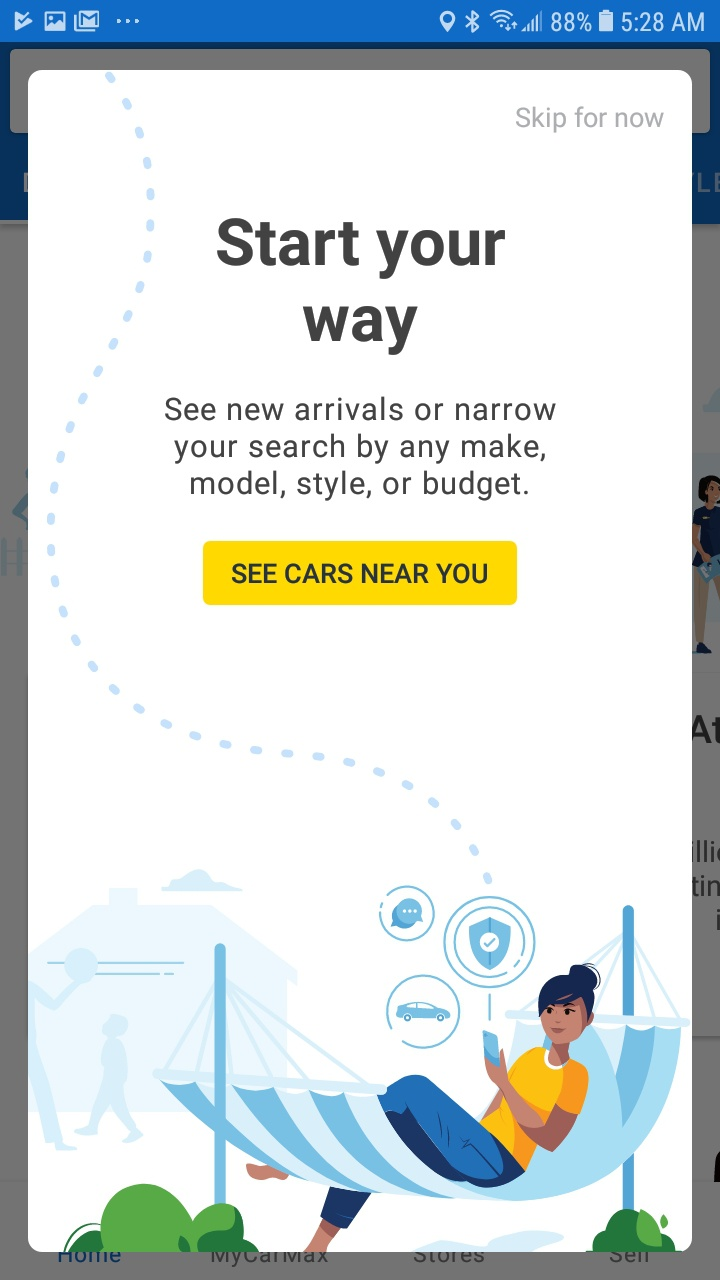BackgroundImage: (28, 70, 693, 1252)
Text: (164, 396, 557, 502), (217, 218, 507, 357), (516, 106, 665, 134)
TextButton: (203, 541, 518, 606)
UpperTaskBar: (1, 1, 720, 43)
